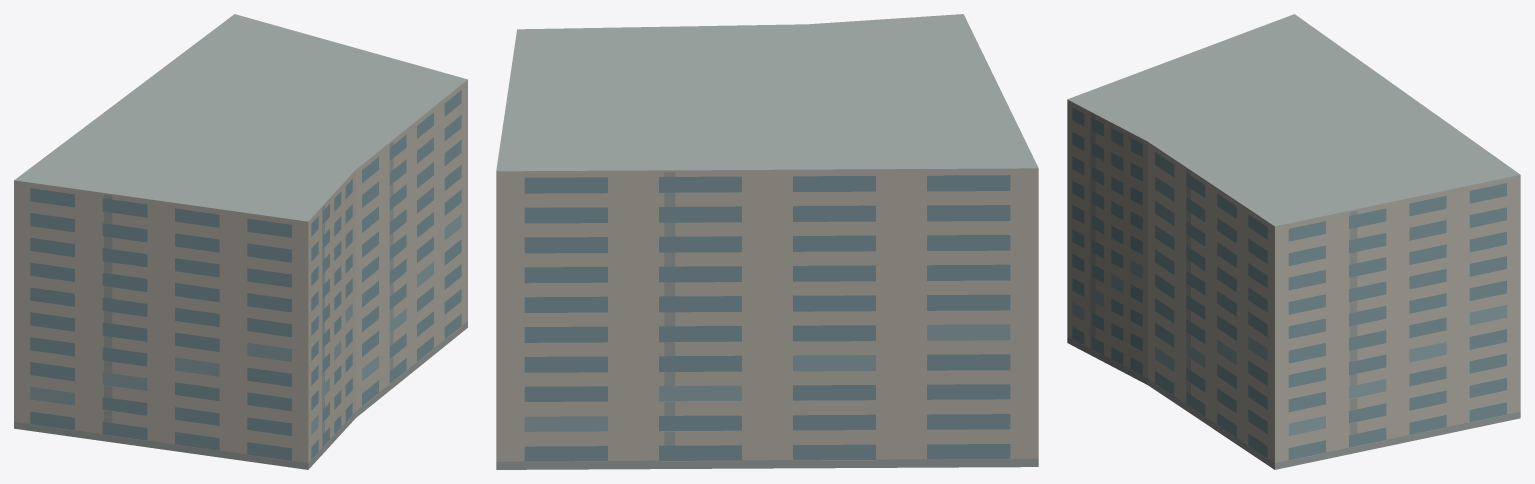
File: residential-149a019f-c1bb-4ab1-bb4a-7bd370b7e8fa.glb
3 renders of one model, left to right at view 1: azimuth 30°, elevation 25°; view 2: azimuth 150°, elevation 25°; view 3: azimuth 270°, elevation 25°, orthographic. The views are drawn at different scales.
Parts seen in each view (by area): view 1: residential-149a019f-c1bb-4ab1-bb4a-7bd370b7e8fa.tmp; view 2: residential-149a019f-c1bb-4ab1-bb4a-7bd370b7e8fa.tmp; view 3: residential-149a019f-c1bb-4ab1-bb4a-7bd370b7e8fa.tmp.
Part boxes in pixels (bbox=[...]): residential-149a019f-c1bb-4ab1-bb4a-7bd370b7e8fa.tmp: bbox=[14, 14, 467, 469]; residential-149a019f-c1bb-4ab1-bb4a-7bd370b7e8fa.tmp: bbox=[496, 14, 1038, 469]; residential-149a019f-c1bb-4ab1-bb4a-7bd370b7e8fa.tmp: bbox=[1067, 14, 1520, 469].
Bounding box in the file's own units: 69.21 × 37 × 62.45.
